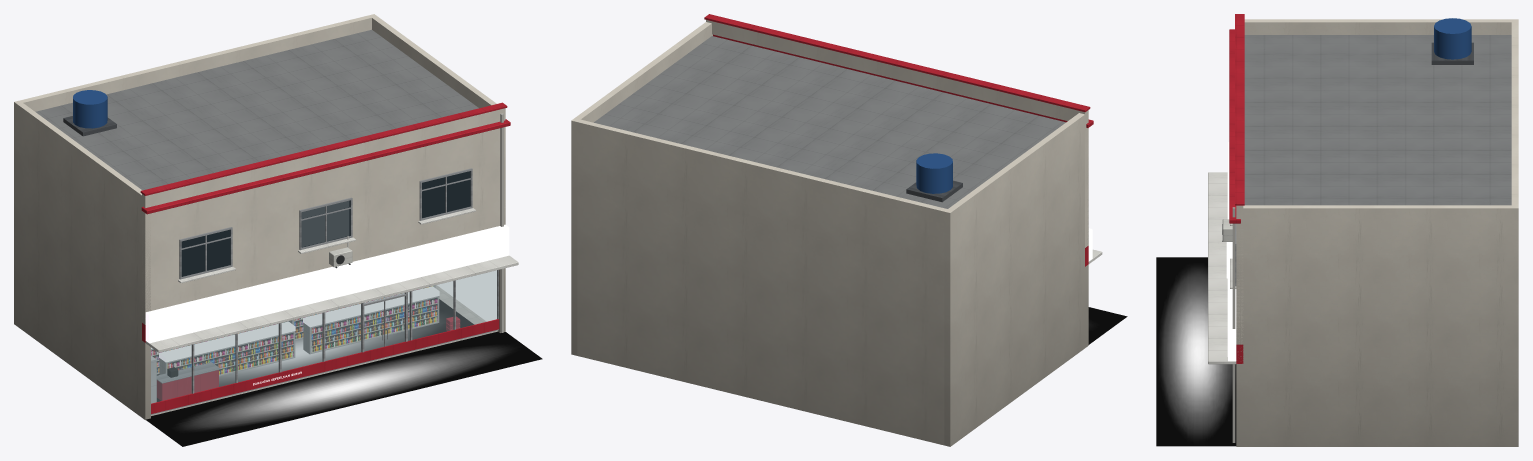
File: LM_SHOP_KkSuperMart.glb
3 views of the same model, side by side, from view 1: azimuth 30°, elevation 25°; view 2: azimuth 150°, elevation 25°; view 3: azimuth 270°, elevation 25° (orthographic). The views are drawn at different scales.
Visible parts, largest first — view 1: LM_SHOP_KkSuperMart | Render wall, LM_SHOP_KkSuperMart | Painted panel, LM_SHOP_KkSuperMart | Night wash, LM_SHOP_KkSuperMart | Shopfront glass, LM_SHOP_KkSuperMart | Night glow sign, LM_SHOP_KkSuperMart | Night glow shelves, LM_SHOP_KkSuperMart | Satin metal, LM_SHOP_KkSuperMart | Upper floor glass, LM_SHOP_KkSuperMart | Night glow LED, LM_SHOP_KkSuperMart | Plastic, LM_SHOP_KkSuperMart | Floor tiles; view 2: LM_SHOP_KkSuperMart | Render wall, LM_SHOP_KkSuperMart | Painted panel, LM_SHOP_KkSuperMart | Plastic, LM_SHOP_KkSuperMart | Night wash; view 3: LM_SHOP_KkSuperMart | Render wall, LM_SHOP_KkSuperMart | Painted panel, LM_SHOP_KkSuperMart | Night wash, LM_SHOP_KkSuperMart | Plastic, LM_SHOP_KkSuperMart | Night glow sign, LM_SHOP_KkSuperMart | Satin metal.
Boxes of the visible parts, x1,y1,x2,y2 form: LM_SHOP_KkSuperMart | Render wall: (14,14,505,420); LM_SHOP_KkSuperMart | Painted panel: (35,29,518,413); LM_SHOP_KkSuperMart | Night wash: (146,299,542,446); LM_SHOP_KkSuperMart | Shopfront glass: (151,270,496,403); LM_SHOP_KkSuperMart | Night glow sign: (145,224,509,385); LM_SHOP_KkSuperMart | Night glow shelves: (151,286,437,375); LM_SHOP_KkSuperMart | Satin metal: (63,116,498,414); LM_SHOP_KkSuperMart | Upper floor glass: (181,171,470,276); LM_SHOP_KkSuperMart | Night glow LED: (302,201,496,321); LM_SHOP_KkSuperMart | Plastic: (73,90,503,377); LM_SHOP_KkSuperMart | Floor tiles: (151,285,497,415); LM_SHOP_KkSuperMart | Render wall: (571,20,1088,446); LM_SHOP_KkSuperMart | Painted panel: (594,14,1102,266); LM_SHOP_KkSuperMart | Plastic: (916,153,952,193); LM_SHOP_KkSuperMart | Night wash: (1088,307,1127,344); LM_SHOP_KkSuperMart | Render wall: (1236,19,1518,446); LM_SHOP_KkSuperMart | Painted panel: (1208,14,1511,364); LM_SHOP_KkSuperMart | Night wash: (1156,257,1236,446); LM_SHOP_KkSuperMart | Plastic: (1222,18,1471,442); LM_SHOP_KkSuperMart | Night glow sign: (1226,142,1236,361); LM_SHOP_KkSuperMart | Satin metal: (1222,42,1473,286).
Size of the model in its own units: 19.2 by 12 by 15.4.
12 materials, 6 textured.
